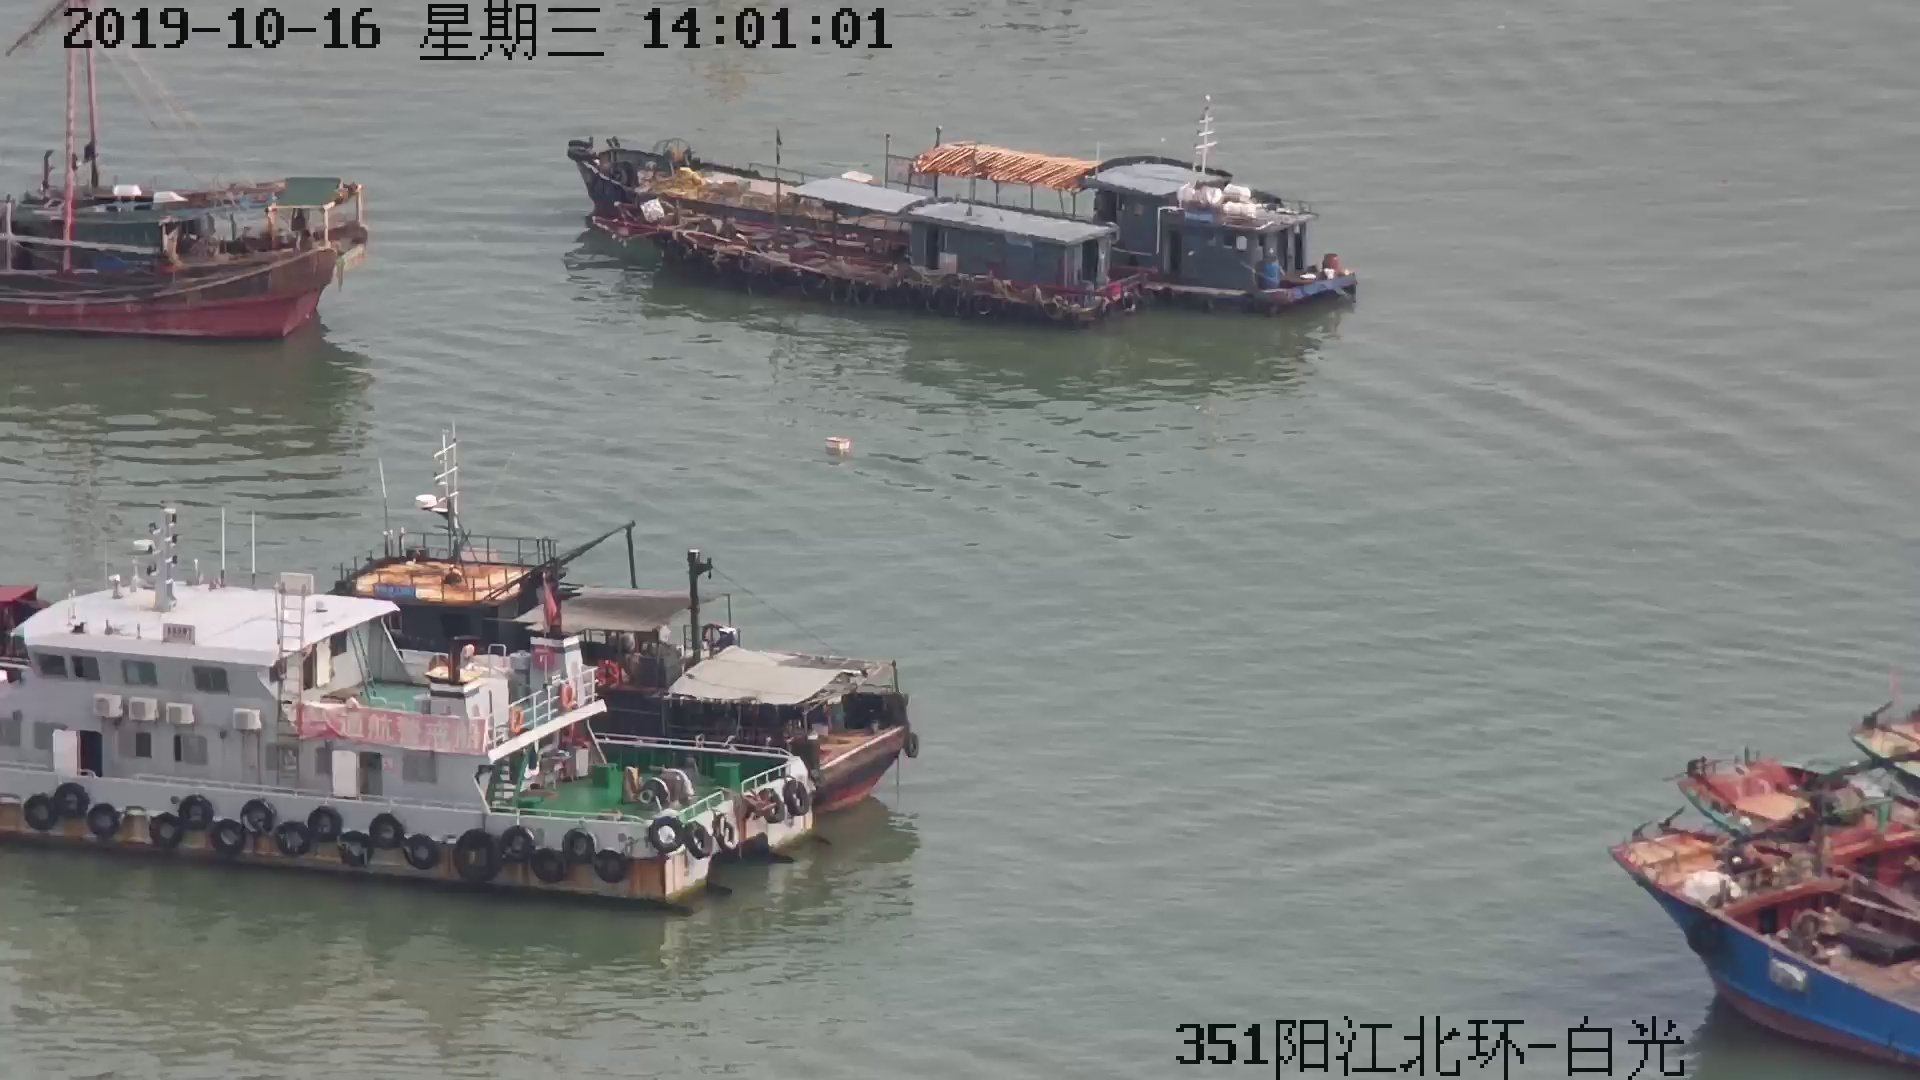ship: (1, 568, 811, 906), (320, 485, 913, 810), (570, 107, 1344, 324), (3, 18, 349, 351)
